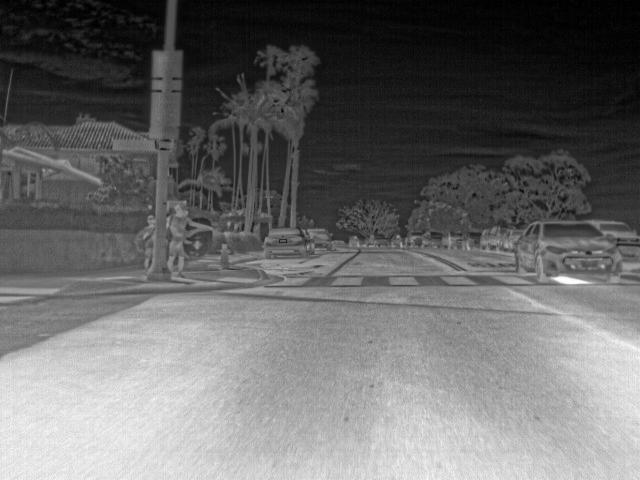car: (515, 221, 622, 285), (585, 220, 640, 264), (263, 228, 312, 258), (310, 228, 332, 250), (501, 227, 520, 251), (481, 227, 501, 248), (442, 230, 462, 249), (462, 230, 480, 250), (368, 234, 389, 250), (387, 230, 405, 248), (425, 228, 443, 246), (408, 230, 423, 246), (350, 236, 367, 248)
person: (166, 202, 216, 278), (143, 214, 155, 270)
